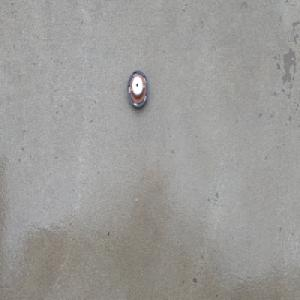FuelCap: (126, 69, 149, 110)
